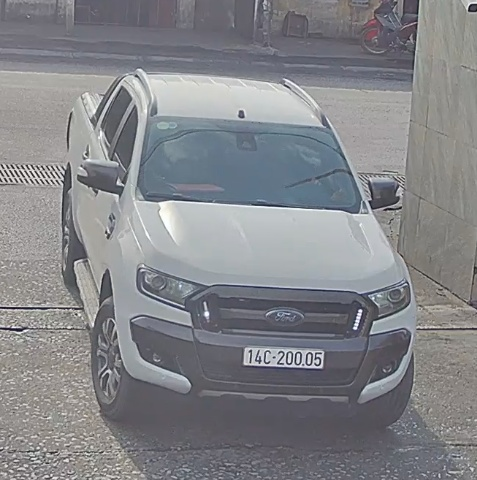vehicle plate: (239, 340, 329, 374)
